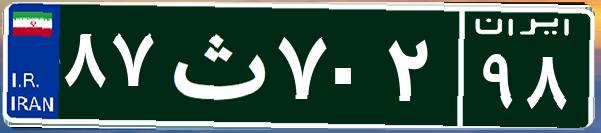0: (330, 28, 385, 110)
2: (385, 28, 445, 110)
7: (273, 28, 330, 110), (110, 28, 158, 105)
8: (57, 26, 110, 107), (525, 38, 570, 115)
9: (475, 38, 525, 113)
ث: (158, 15, 273, 115)
